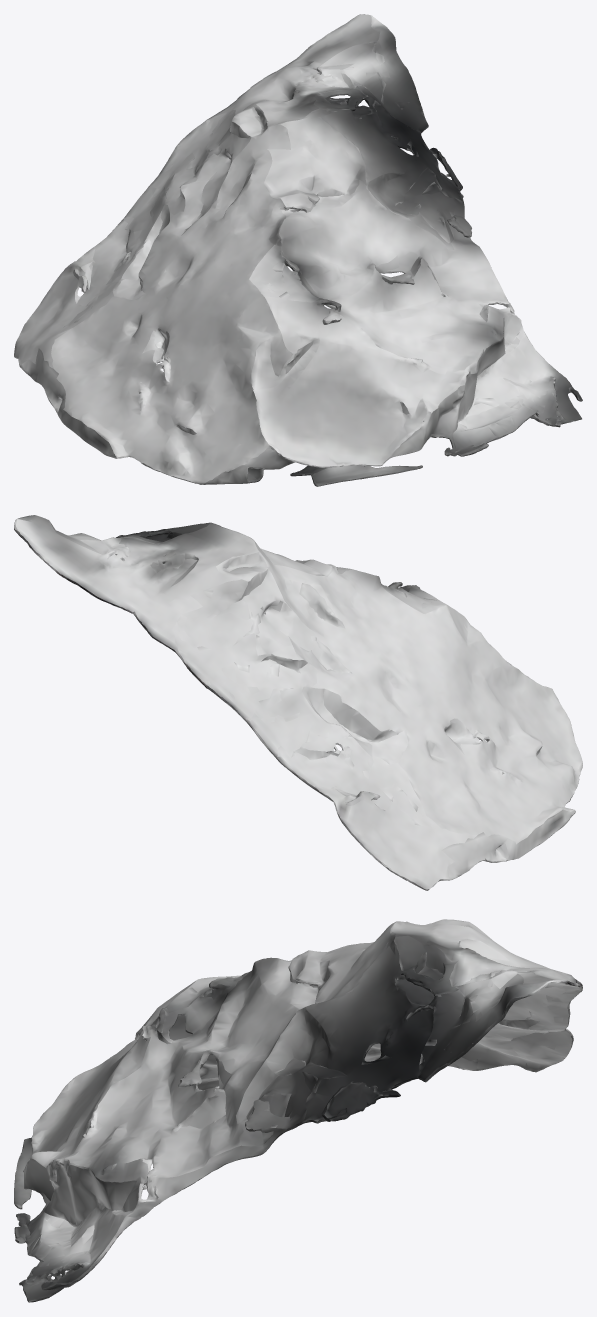
3 renders of one model, top to bottom at view 1: azimuth 30°, elevation 25°; view 2: azimuth 150°, elevation 25°; view 3: azimuth 270°, elevation 25°, orthographic. The views are drawn at different scales.
Parts seen in each view (by area): view 1: world; view 2: world; view 3: world.
Part boxes in pixels (x1=…): world: x1=14, y1=14, x2=582, y2=486; world: x1=14, y1=515, x2=582, y2=890; world: x1=14, y1=919, x2=582, y2=1302.
Bounding box in the file's own units: 0.12 × 0.0779 × 0.1199.
Materials: 1 (1 with a texture image).
